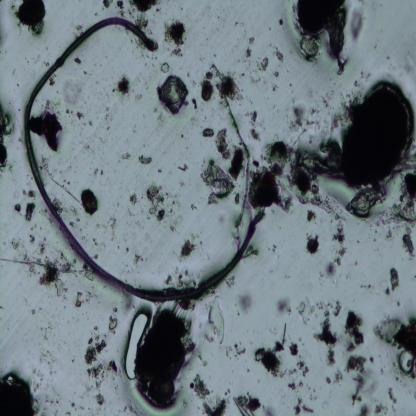Air bubble: (125, 309, 150, 380)
Background material: (340, 80, 416, 214), (282, 100, 345, 218), (129, 311, 200, 412), (289, 0, 350, 75), (251, 141, 293, 212), (84, 330, 118, 406), (376, 316, 416, 376), (259, 48, 294, 106), (0, 371, 39, 414), (201, 158, 234, 204), (10, 234, 46, 272), (293, 295, 341, 323), (158, 76, 190, 116), (208, 297, 232, 350), (30, 114, 64, 151), (256, 338, 285, 381), (0, 101, 17, 173), (16, 0, 47, 37), (343, 306, 366, 352), (143, 182, 168, 224), (38, 260, 67, 296), (316, 313, 340, 352), (161, 260, 191, 290), (285, 359, 310, 392), (232, 392, 262, 416), (164, 21, 190, 48), (64, 74, 84, 107), (401, 169, 416, 212), (334, 213, 348, 259), (39, 341, 58, 374), (346, 7, 365, 40), (290, 392, 316, 415), (346, 353, 373, 375), (189, 376, 211, 402), (229, 146, 245, 181), (228, 337, 247, 365), (82, 188, 100, 216), (385, 266, 401, 297), (200, 74, 216, 105), (236, 289, 254, 316), (350, 375, 364, 408), (116, 72, 133, 99), (215, 126, 228, 160), (54, 200, 78, 218), (129, 0, 162, 13), (368, 395, 390, 414), (179, 236, 196, 260), (277, 294, 294, 316), (251, 108, 262, 142), (136, 12, 151, 34), (382, 384, 399, 403), (322, 258, 338, 278), (81, 267, 96, 288), (384, 218, 397, 242), (136, 150, 154, 167), (404, 234, 416, 257), (172, 157, 190, 172), (307, 234, 320, 254), (103, 2, 125, 13), (25, 200, 35, 224), (324, 346, 335, 366), (89, 229, 99, 250), (128, 188, 139, 206), (288, 343, 301, 358), (262, 403, 276, 416), (64, 401, 78, 414), (106, 218, 118, 233), (47, 75, 60, 88), (246, 38, 255, 56), (356, 401, 368, 414), (335, 367, 343, 386), (119, 154, 134, 164), (106, 318, 118, 330), (75, 291, 83, 309), (359, 281, 372, 292), (160, 61, 170, 75), (201, 129, 216, 138), (78, 67, 89, 78), (277, 14, 287, 26), (233, 192, 241, 207), (134, 253, 144, 265), (76, 110, 86, 122), (189, 200, 199, 212), (14, 203, 23, 216), (304, 217, 317, 226), (190, 102, 200, 112), (64, 107, 74, 115), (325, 376, 333, 385), (32, 306, 36, 317), (78, 58, 83, 66), (396, 299, 400, 308), (274, 243, 277, 254)
Cellulose filter fibre: (215, 84, 251, 226)
Microfibre: (25, 14, 257, 305)
